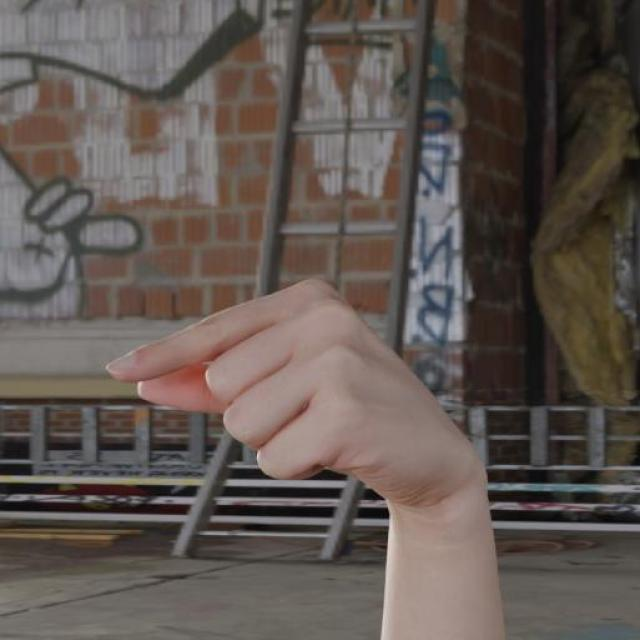G: (101, 270, 492, 511)
